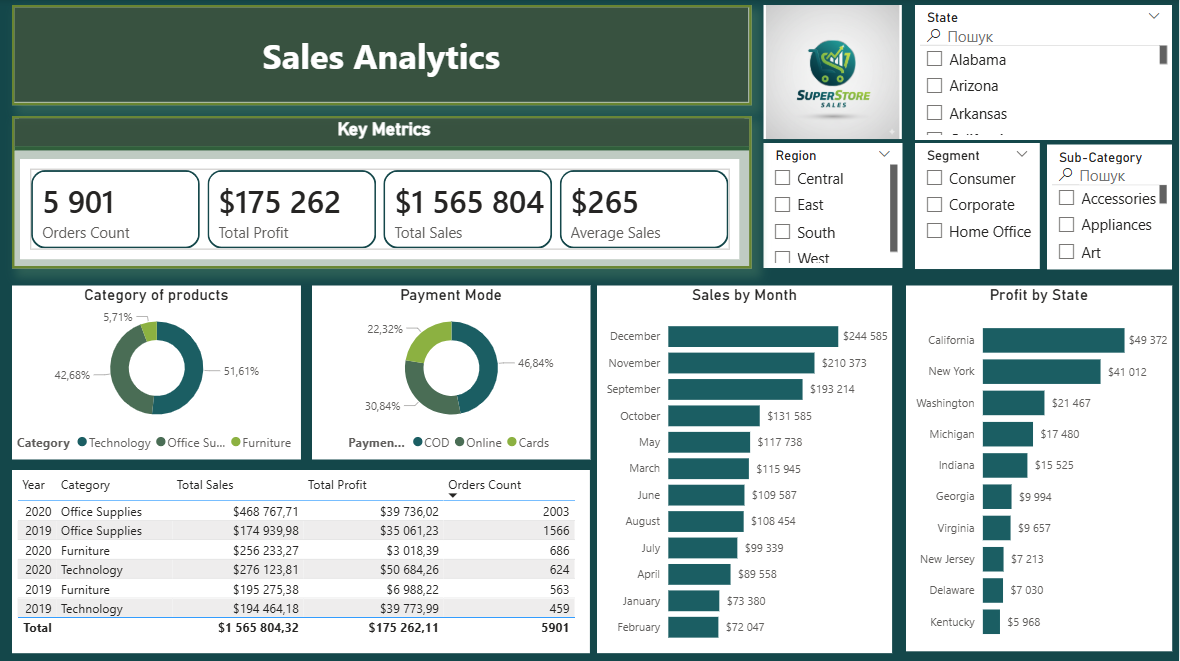

What the dashboard file says about the page in this screenshot:
{"tool":"powerbi","page":{"name":"Сторінка 1","canvas":[1280,720],"ordinal":0},"visuals":[{"type":"donutChart","title":"Category of products","fields":{"Category":["Sheet1.Category"],"Y":["Sum(Sheet1.Profit)"]},"box":[13.3,310,313.3,188.3],"z":0},{"type":"donutChart","title":"Payment Mode","fields":{"Category":["Sheet1.Payment Mode"],"Y":["Sum(Sheet1.Profit)"]},"box":[338.3,310,301.7,188.3],"z":1000},{"type":"barChart","title":"Sales by  Month","fields":{"Y":["Sum(Sheet1.Sales)"],"Category":["Sheet1.Month","Sheet1.Order Date.Варіація.Ієрархія дат.Місяць"]},"box":[646.7,310,320,398.3],"z":2000},{"type":"slicer","fields":{"Values":["Sheet1.Region"]},"box":[828.3,156.7,150,135],"z":3000},{"type":"slicer","fields":{"Values":["Sheet1.Sub-Category"]},"box":[1135,158.3,135,135],"z":4000},{"type":"slicer","fields":{"Values":["Sheet1.Segment"]},"box":[991.7,156.7,135,136.7],"z":5000},{"type":"slicer","fields":{"Values":["Sheet1.State"]},"box":[991.7,6.7,278.3,145],"z":6000},{"type":"cardVisual","title":"Key Metrics","fields":{"Data":["CountNonNull(Sheet1.Order ID)","Sum(Sheet1.Profit)","Sum(Sheet1.Sales)","Avg(Sheet1.Sales)"]},"box":[13.3,126.7,801.7,165],"z":7000},{"type":"shape","box":[13.3,6.7,801.7,108.3],"z":8000},{"type":"tableEx","fields":{"Values":["Sheet1.Year","Sheet1.Category","Sum(Sheet1.Sales)","Sum(Sheet1.Profit)","Sheet1.Order ID"]},"box":[13.3,510,626.7,198.3],"z":9000},{"type":"barChart","title":"Profit by State","fields":{"Category":["Sheet1.State"],"Y":["Sum(Sheet1.Profit)"]},"box":[981.7,310,288.3,396.7],"z":10000},{"type":"image","box":[828.3,6.7,150,145],"z":11000}]}

Visuals, with their boxes in screenshot pixels (x1, y1, x2, y2), scaled from the page's 1280x720 canvas onto the 1180x661 screenshot:
"Category of products" donutChart: pyautogui.locateOnScreen(12, 285, 301, 457)
"Payment Mode" donutChart: pyautogui.locateOnScreen(312, 285, 590, 457)
"Sales by  Month" barChart: pyautogui.locateOnScreen(596, 285, 891, 650)
slicer - Sheet1.Region: pyautogui.locateOnScreen(764, 144, 902, 268)
slicer - Sheet1.Sub-Category: pyautogui.locateOnScreen(1046, 145, 1171, 269)
slicer - Sheet1.Segment: pyautogui.locateOnScreen(914, 144, 1039, 269)
slicer - Sheet1.State: pyautogui.locateOnScreen(914, 6, 1171, 139)
"Key Metrics" cardVisual: pyautogui.locateOnScreen(12, 116, 751, 268)
shape: pyautogui.locateOnScreen(12, 6, 751, 106)
tableEx - Sheet1.Year x Sheet1.Category: pyautogui.locateOnScreen(12, 468, 590, 650)
"Profit by State" barChart: pyautogui.locateOnScreen(905, 285, 1171, 649)
image: pyautogui.locateOnScreen(764, 6, 902, 139)
